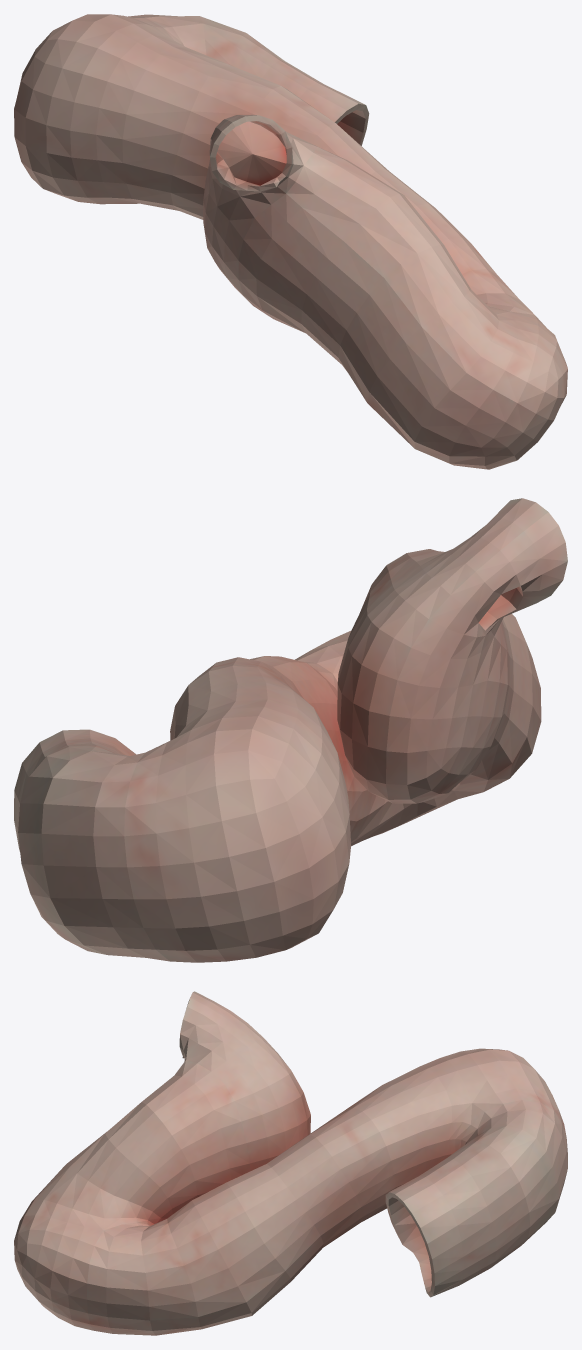
The model's file is colon_ascending_LP.glb.
3 views of the same model, one above another, from view 1: azimuth 30°, elevation 25°; view 2: azimuth 150°, elevation 25°; view 3: azimuth 270°, elevation 25° (orthographic). The views are drawn at different scales.
Parts seen in each view (by area): view 1: colon_ascending_LP; view 2: colon_ascending_LP; view 3: colon_ascending_LP.
Boxes of the visible parts, x1=… form: colon_ascending_LP: x1=14, y1=14, x2=567, y2=469; colon_ascending_LP: x1=14, y1=498, x2=567, y2=962; colon_ascending_LP: x1=14, y1=991, x2=567, y2=1335.
Bounding box in the file's own units: 0.00121 × 0.00132 × 0.00246.
1 material, 1 textured.
